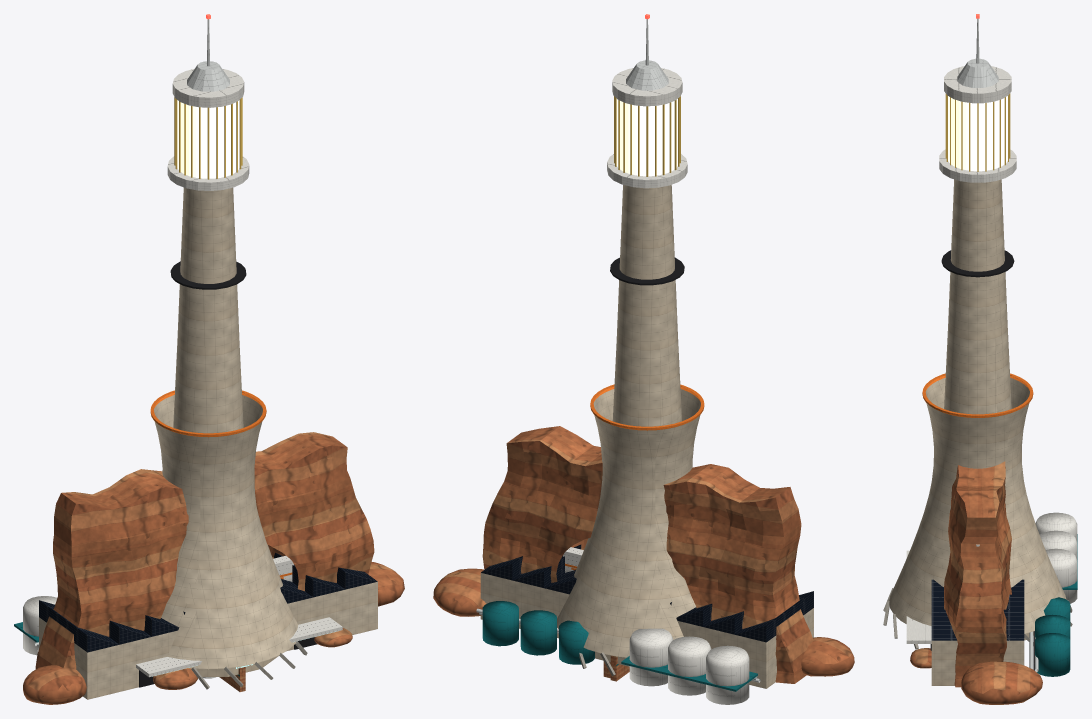
Rendered from sirocco-oasis-kit.glb.
3 renders of one model, left to right at view 1: azimuth 30°, elevation 25°; view 2: azimuth 150°, elevation 25°; view 3: azimuth 270°, elevation 25°, orthographic. The views are drawn at different scales.
Visible parts, largest first — view 1: rock-arch / Sirocco sandstone, cooling-tower / Sirocco plaster, solar-tower / Sirocco plaster, desal-plant / Sirocco trim atlas, desal-plant / Sirocco plaster, solar-tower / Sirocco trim atlas, solar-tower / Receiver glow, cooling-tower / Sirocco trim atlas; view 2: rock-arch / Sirocco sandstone, cooling-tower / Sirocco plaster, desal-plant / Sirocco trim atlas, solar-tower / Sirocco plaster, solar-tower / Sirocco trim atlas, desal-plant / Sirocco plaster, solar-tower / Receiver glow, cooling-tower / Sirocco trim atlas; view 3: cooling-tower / Sirocco plaster, rock-arch / Sirocco sandstone, solar-tower / Sirocco plaster, desal-plant / Sirocco trim atlas, solar-tower / Sirocco trim atlas, solar-tower / Receiver glow, desal-plant / Sirocco plaster, cooling-tower / Sirocco trim atlas.
Boxes of the visible parts, <box> form: rock-arch / Sirocco sandstone: <box>23,432,404,704</box>; cooling-tower / Sirocco plaster: <box>154,395,297,669</box>; solar-tower / Sirocco plaster: <box>173,187,278,676</box>; desal-plant / Sirocco trim atlas: <box>14,552,377,687</box>; desal-plant / Sirocco plaster: <box>39,581,377,699</box>; solar-tower / Sirocco trim atlas: <box>167,19,249,289</box>; solar-tower / Receiver glow: <box>177,100,239,178</box>; cooling-tower / Sirocco trim atlas: <box>150,390,307,689</box>; rock-arch / Sirocco sandstone: <box>433,426,854,683</box>; cooling-tower / Sirocco plaster: <box>557,389,700,657</box>; desal-plant / Sirocco trim atlas: <box>476,544,813,704</box>; solar-tower / Sirocco plaster: <box>595,185,681,666</box>; solar-tower / Sirocco trim atlas: <box>607,19,687,285</box>; desal-plant / Sirocco plaster: <box>480,573,813,688</box>; solar-tower / Receiver glow: <box>616,99,677,176</box>; cooling-tower / Sirocco trim atlas: <box>579,384,704,675</box>; cooling-tower / Sirocco plaster: <box>889,378,1066,633</box>; rock-arch / Sirocco sandstone: <box>910,461,1042,704</box>; solar-tower / Sirocco plaster: <box>944,179,1033,640</box>; desal-plant / Sirocco trim atlas: <box>906,512,1077,676</box>; solar-tower / Sirocco trim atlas: <box>939,18,1016,277</box>; solar-tower / Receiver glow: <box>948,96,1007,171</box>; desal-plant / Sirocco plaster: <box>931,640,1024,685</box>; cooling-tower / Sirocco trim atlas: <box>883,373,1072,649</box>.
Size of the model in its own units: 123 by 195 by 54.64.
16 materials, 6 textured.
